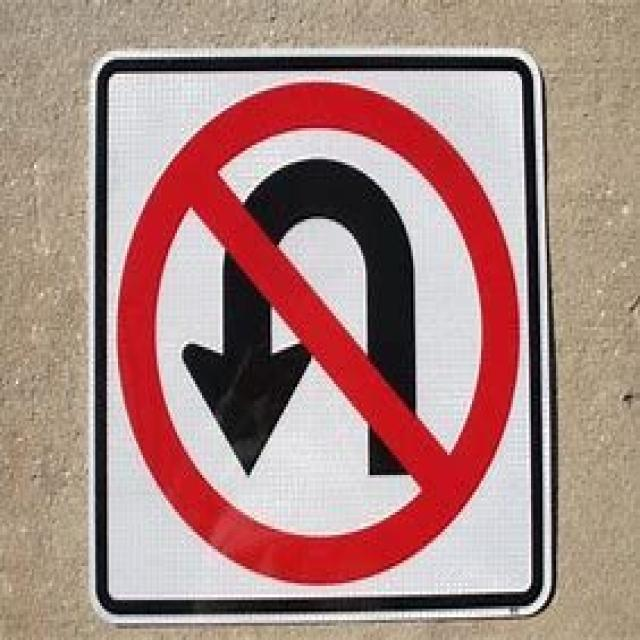u turn prohibited: (114, 80, 521, 588)
